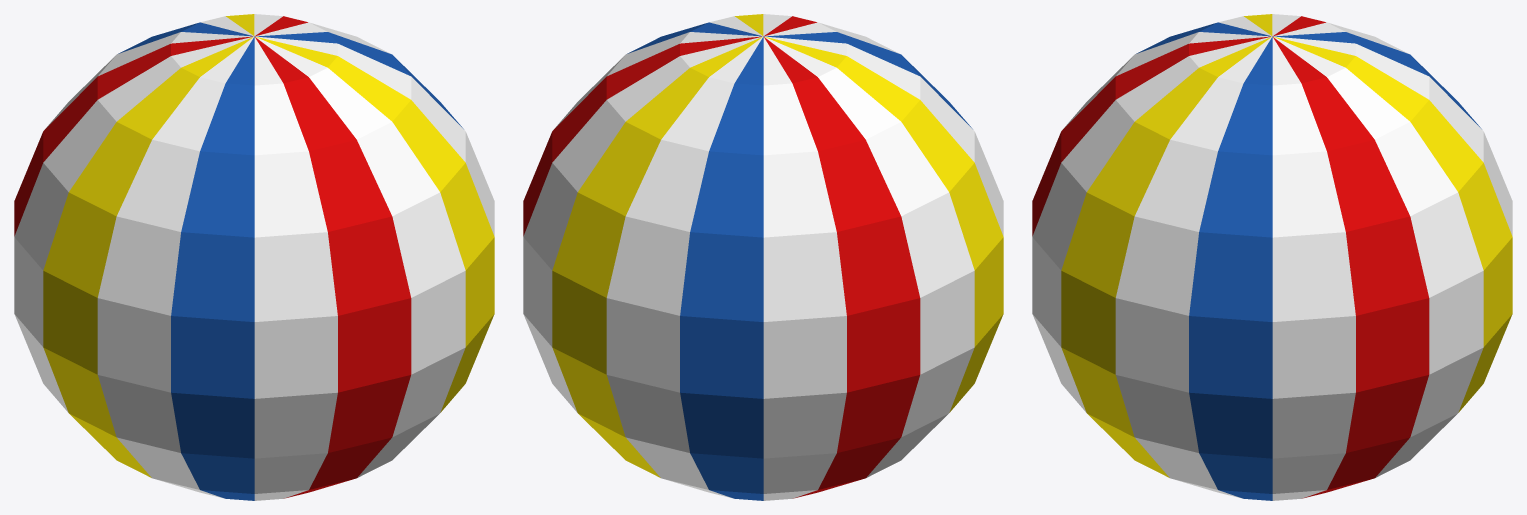
Rendered from beachball1.gltf.
3 views of the same model, side by side, from view 1: azimuth 30°, elevation 25°; view 2: azimuth 150°, elevation 25°; view 3: azimuth 270°, elevation 25° (orthographic).
Visible parts, largest first — view 1: sphere; view 2: sphere; view 3: sphere.
Boxes of the visible parts, x1,y1,x2,y2 form: sphere: (14, 14, 494, 500); sphere: (523, 14, 1003, 500); sphere: (1032, 14, 1512, 500).
Size of the model in its own units: 1 by 1 by 0.9848.
1 material, 1 textured.
